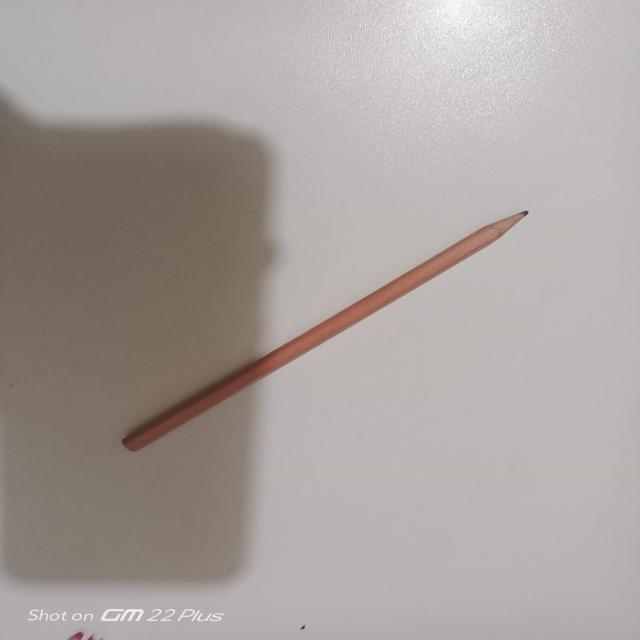pencil: (123, 211, 528, 452)
